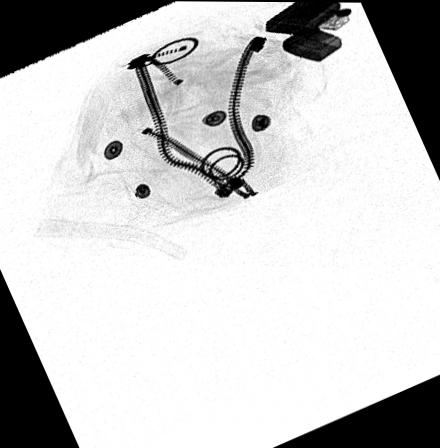Lighter: (264, 2, 352, 61)
